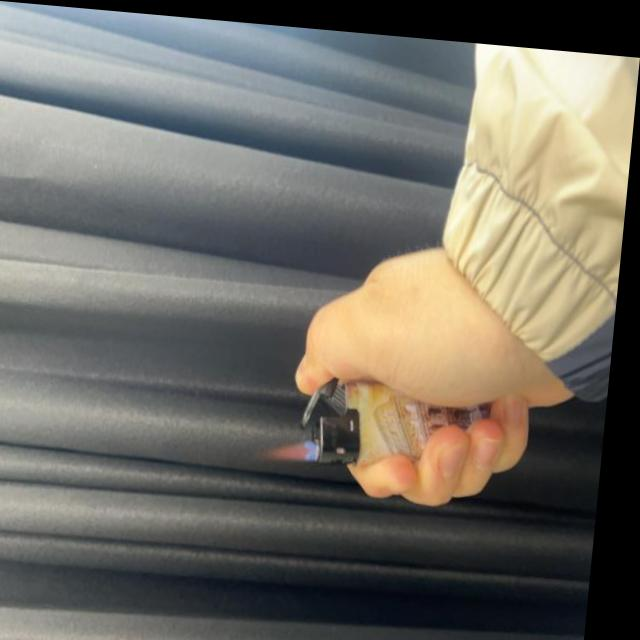Fire: (259, 429, 326, 460)
